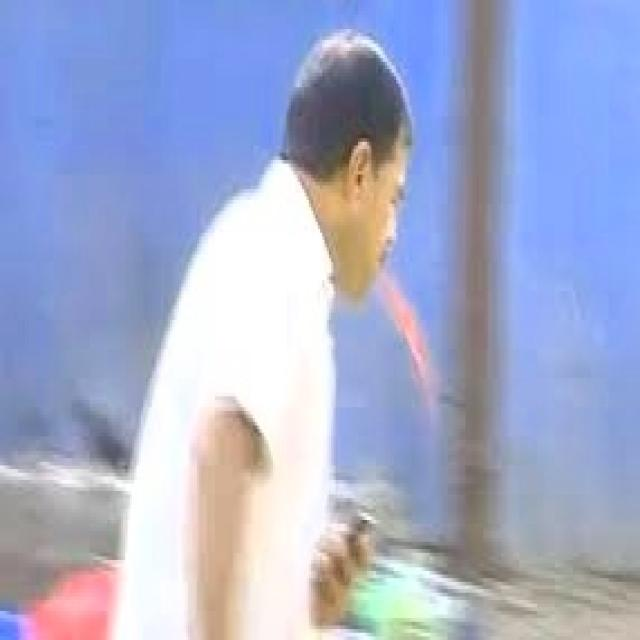Spitting-adR8: (233, 26, 456, 457)
